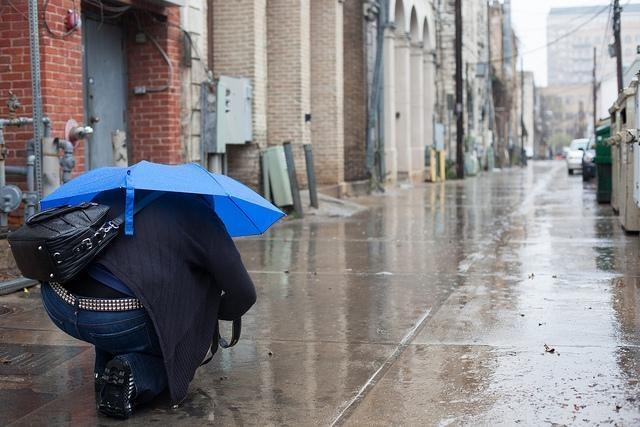car: (562, 138, 590, 174), (578, 135, 596, 183), (554, 154, 562, 160)
